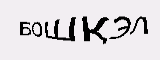Б: (14, 18, 31, 38)
Л: (131, 11, 151, 36)
О: (31, 20, 44, 38)
Ш: (44, 14, 75, 42)
Э: (111, 9, 130, 44)
Қ: (77, 10, 111, 43)
